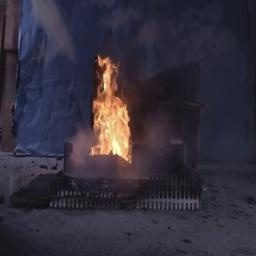fire: (87, 51, 145, 168)
